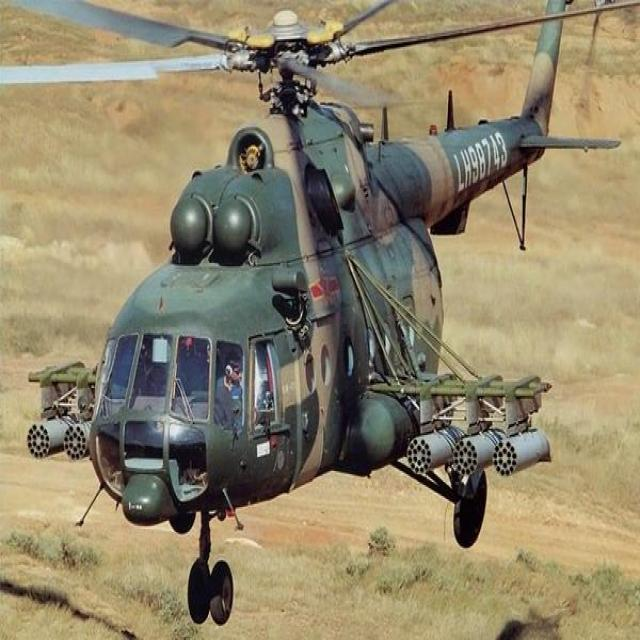MIL_HELO: (0, 0, 626, 625)
